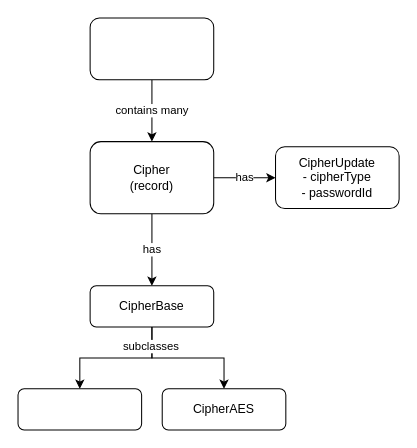
Some shapes in this 417 by 448 pixel diagram are drawn without their labels. The centre of each missing label's shape, as x and y in pixels:
"CipherNone" belongs at pixel 79 409.
"CipherReservoir" belongs at pixel 151 48.
